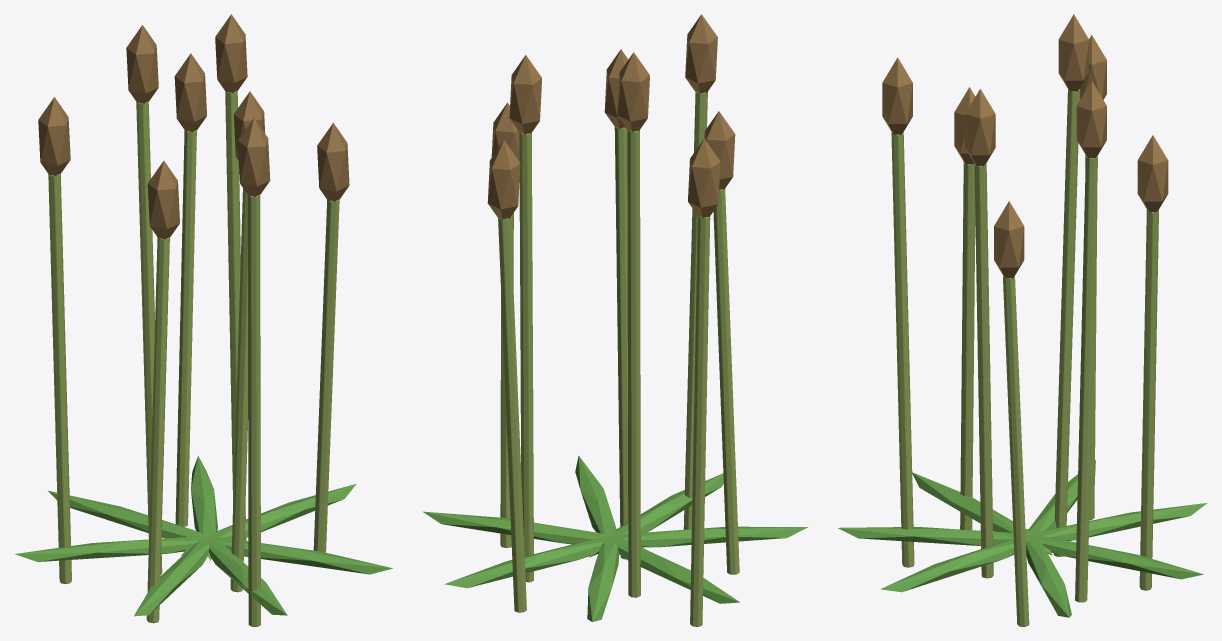
File: reed_grass_clump_1p4m.glb
3 renders of one model, left to right at view 1: azimuth 30°, elevation 25°; view 2: azimuth 150°, elevation 25°; view 3: azimuth 270°, elevation 25°, orthographic. The views are drawn at different scales.
Parts seen in each view (by area): view 1: reed_stem_08, reed_stem_06, reed_stem_07, reed_stem_01, reed_stem_05, reed_stem_02, reed_stem_03, reed_stem_04, grass_blade_04, grass_blade_07, reed_seed_05, reed_seed_08 (+11 smaller); view 2: reed_stem_02, reed_stem_04, reed_stem_06, reed_stem_07, reed_stem_01, reed_stem_03, reed_stem_08, grass_blade_02, grass_blade_01, grass_blade_05, reed_seed_06, reed_seed_02 (+11 smaller); view 3: reed_stem_04, reed_stem_02, reed_stem_08, reed_stem_03, reed_stem_07, reed_stem_05, reed_stem_01, grass_blade_02, grass_blade_06, grass_blade_07, grass_blade_03, reed_seed_07 (+11 smaller).
Part boxes in pixels (x1,y1,x2,y2): reed_stem_08: (247, 195, 260, 626); reed_stem_06: (48, 174, 71, 584); reed_stem_07: (175, 130, 196, 526); reed_stem_01: (146, 237, 169, 623); reed_stem_05: (313, 199, 339, 552); reed_stem_02: (136, 102, 162, 575); reed_stem_03: (230, 188, 248, 592); reed_stem_04: (225, 91, 246, 540); grass_blade_04: (14, 536, 231, 561); grass_blade_07: (209, 537, 392, 574); reed_seed_05: (317, 123, 349, 201); reed_seed_08: (238, 118, 270, 196); reed_stem_02: (627, 129, 640, 597); reed_stem_04: (519, 132, 533, 582); reed_stem_06: (690, 216, 710, 626); reed_stem_07: (498, 217, 526, 612); reed_stem_01: (713, 189, 739, 574); reed_stem_03: (614, 126, 628, 559); reed_stem_08: (683, 91, 707, 529); grass_blade_02: (444, 537, 610, 588); grass_blade_01: (423, 511, 645, 549); grass_blade_05: (612, 526, 807, 547); reed_seed_06: (688, 138, 720, 218); reed_seed_02: (617, 52, 649, 132); reed_stem_04: (1075, 156, 1097, 602); reed_stem_02: (1053, 89, 1079, 556); reed_stem_08: (891, 132, 914, 567); reed_stem_03: (974, 163, 993, 578); reed_stem_07: (1139, 210, 1158, 590); reed_stem_05: (1003, 276, 1029, 626); reed_stem_01: (960, 162, 975, 530); grass_blade_02: (1031, 536, 1203, 579); grass_blade_06: (838, 527, 1030, 545); grass_blade_07: (881, 536, 1029, 592); grass_blade_03: (1031, 503, 1207, 540); reed_seed_07: (1137, 135, 1168, 212).
Bounding box in the file's own units: 1.04 × 1.65 × 1.03.
